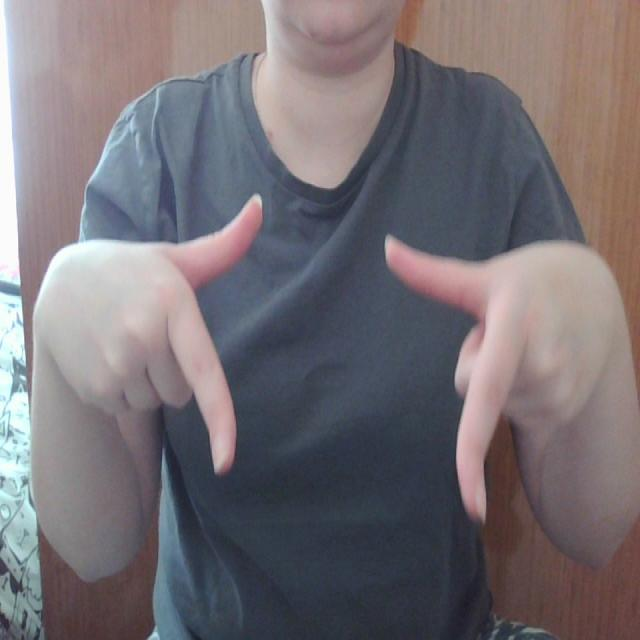Nerede: (158, 188, 526, 531)
